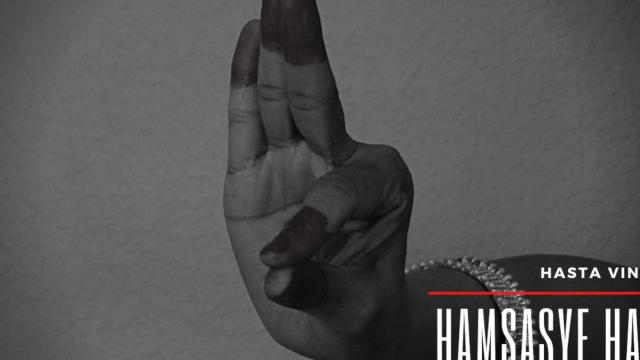hansaasya: (202, 4, 438, 356)
